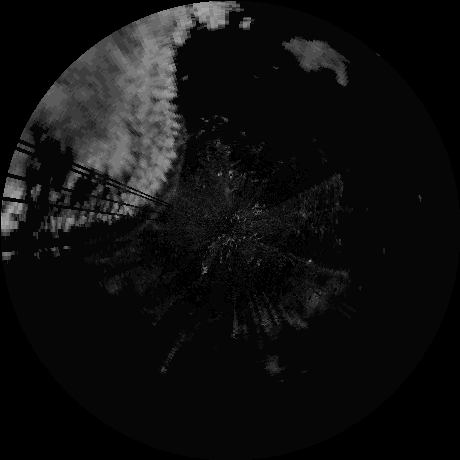frontgust: (147, 134, 184, 229)
